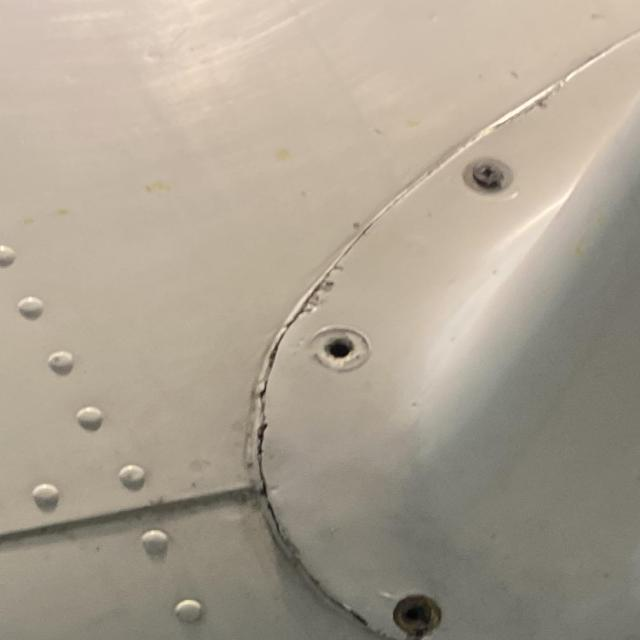Crack: (250, 320, 295, 494)
Missing-head: (309, 325, 368, 369), (391, 592, 443, 640)
